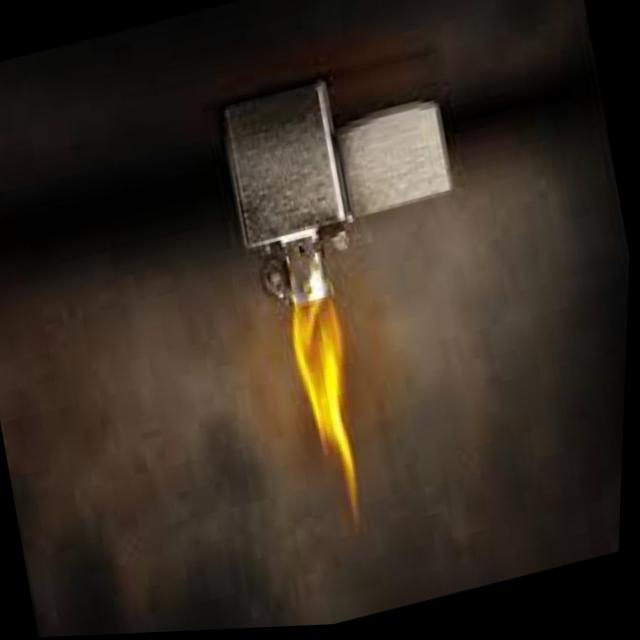Fire: (265, 285, 396, 535)
